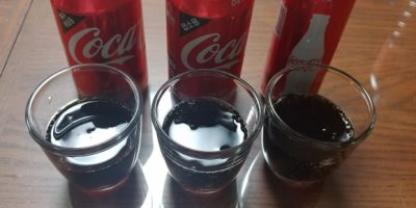Can: (49, 0, 149, 98), (259, 0, 355, 102), (165, 0, 255, 102)
